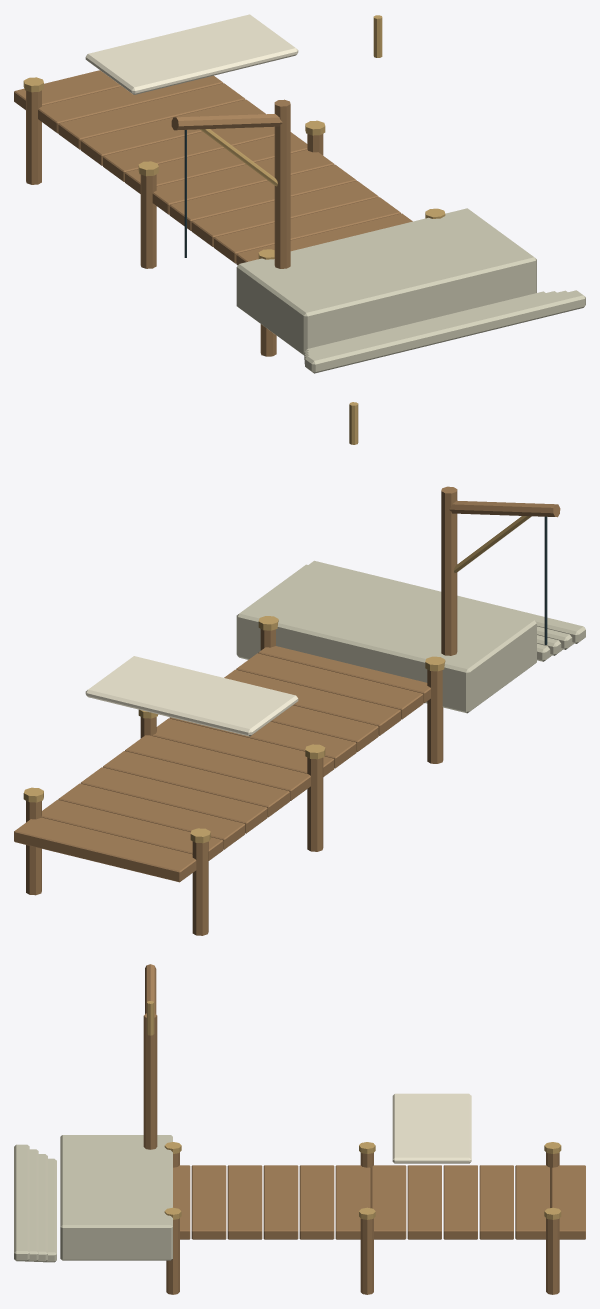
Rendered from level_30.glb.
3 views of the same model, one above another, from view 1: azimuth 30°, elevation 25°; view 2: azimuth 150°, elevation 25°; view 3: azimuth 270°, elevation 25° (orthographic). The views are drawn at different scales.
Visible parts, largest first — view 1: dock — level 30; view 2: dock — level 30; view 3: dock — level 30.
Boxes of the visible parts, left/top/right/bottom form: dock — level 30: left=14, top=14, right=585, bottom=373; dock — level 30: left=14, top=402, right=585, bottom=935; dock — level 30: left=14, top=964, right=585, bottom=1294.
Size of the model in its own units: 5.45 by 5.11 by 10.14.
